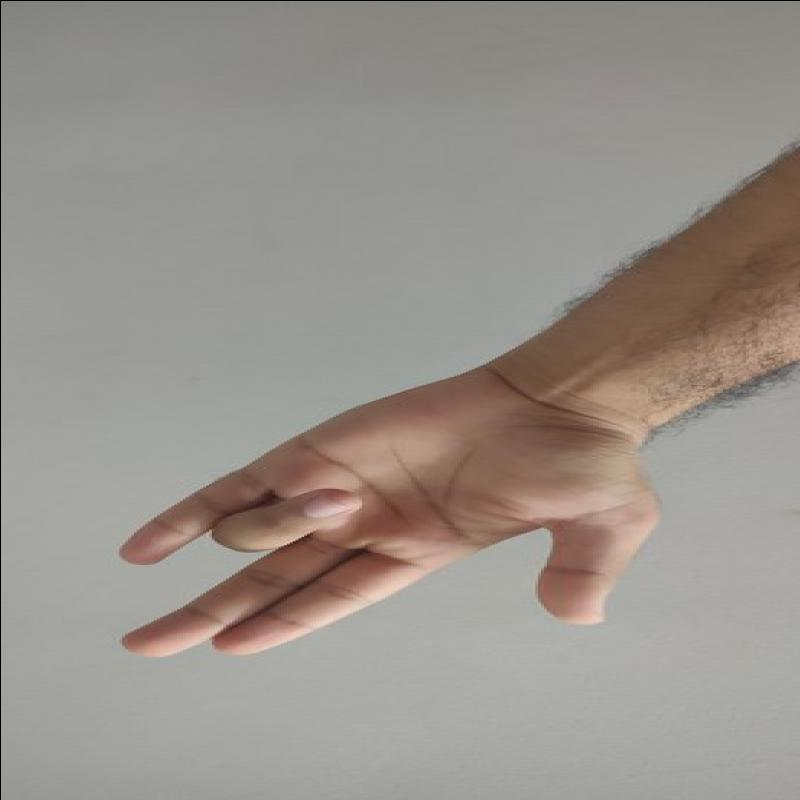Pathaaka: (101, 370, 674, 698)
